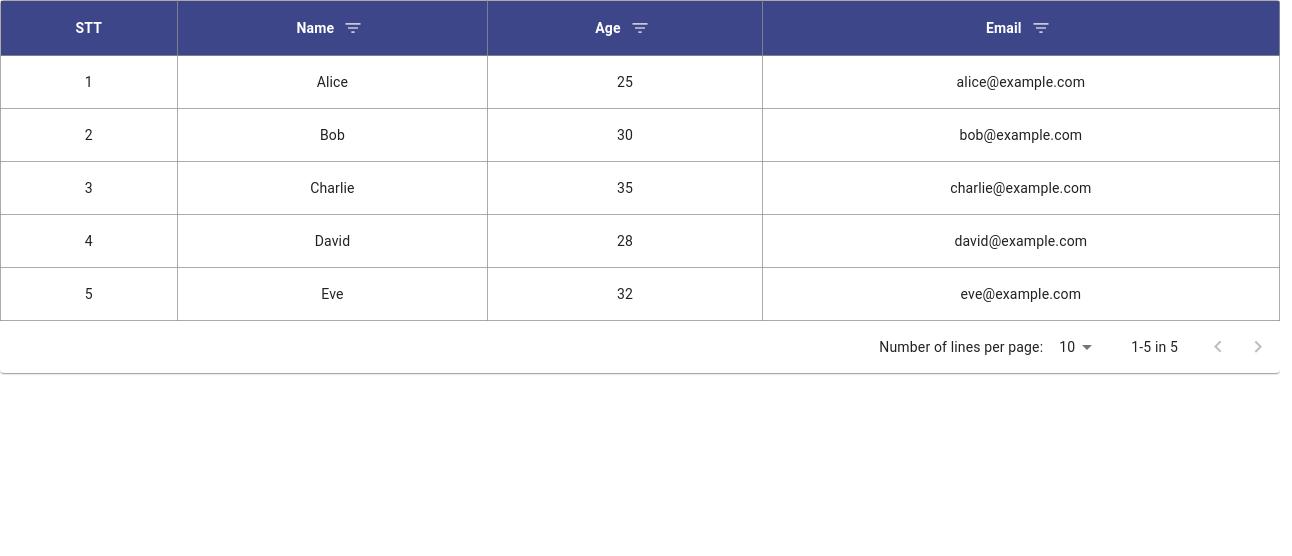
DataTable Component - Unit Tests › Happy Path - Sorting › should close popover after sorting
Click the button without text next to "Name".
click(353, 28)  # box 338,13 -> 368,43
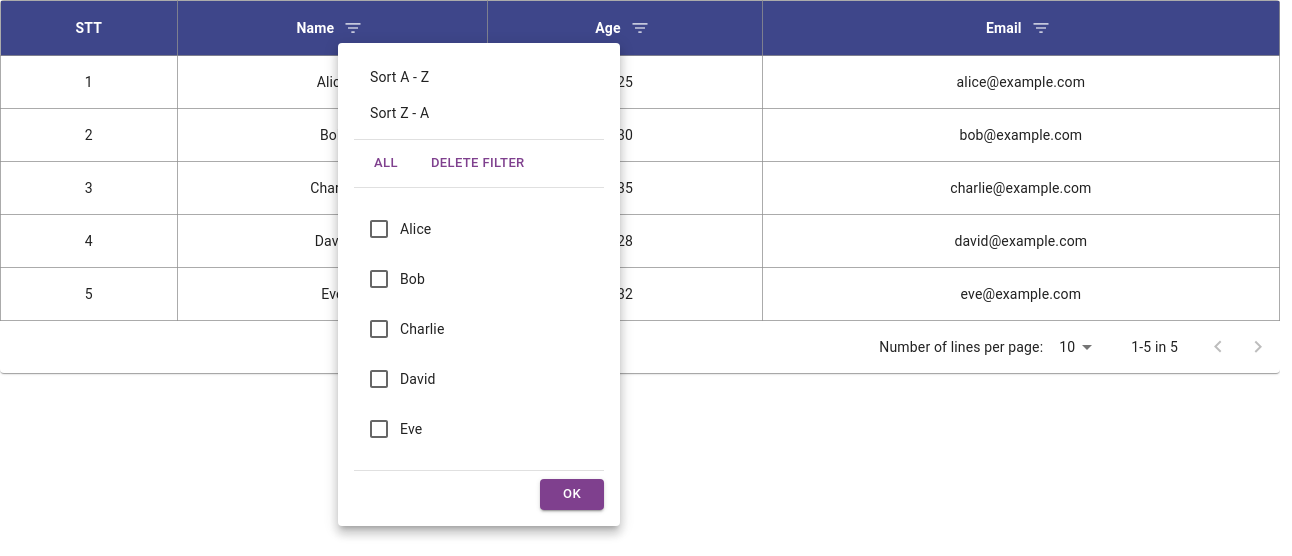
Click the button "Sort A - Z".
click(400, 77)  # box 370,69 -> 429,85
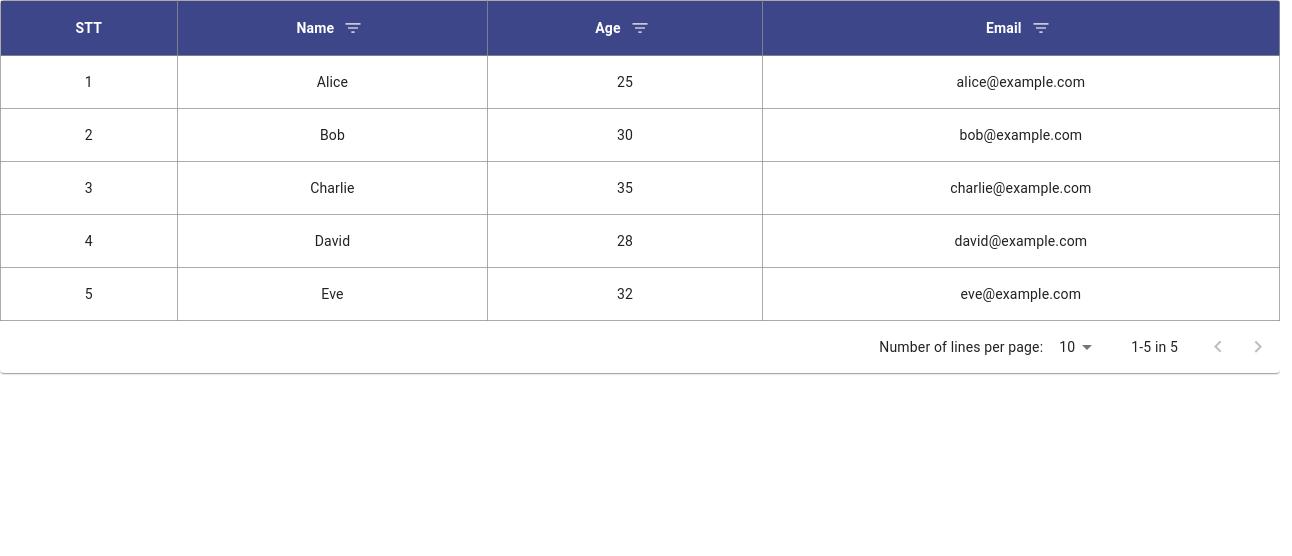
Expected: the button "Sort A - Z" is gone
